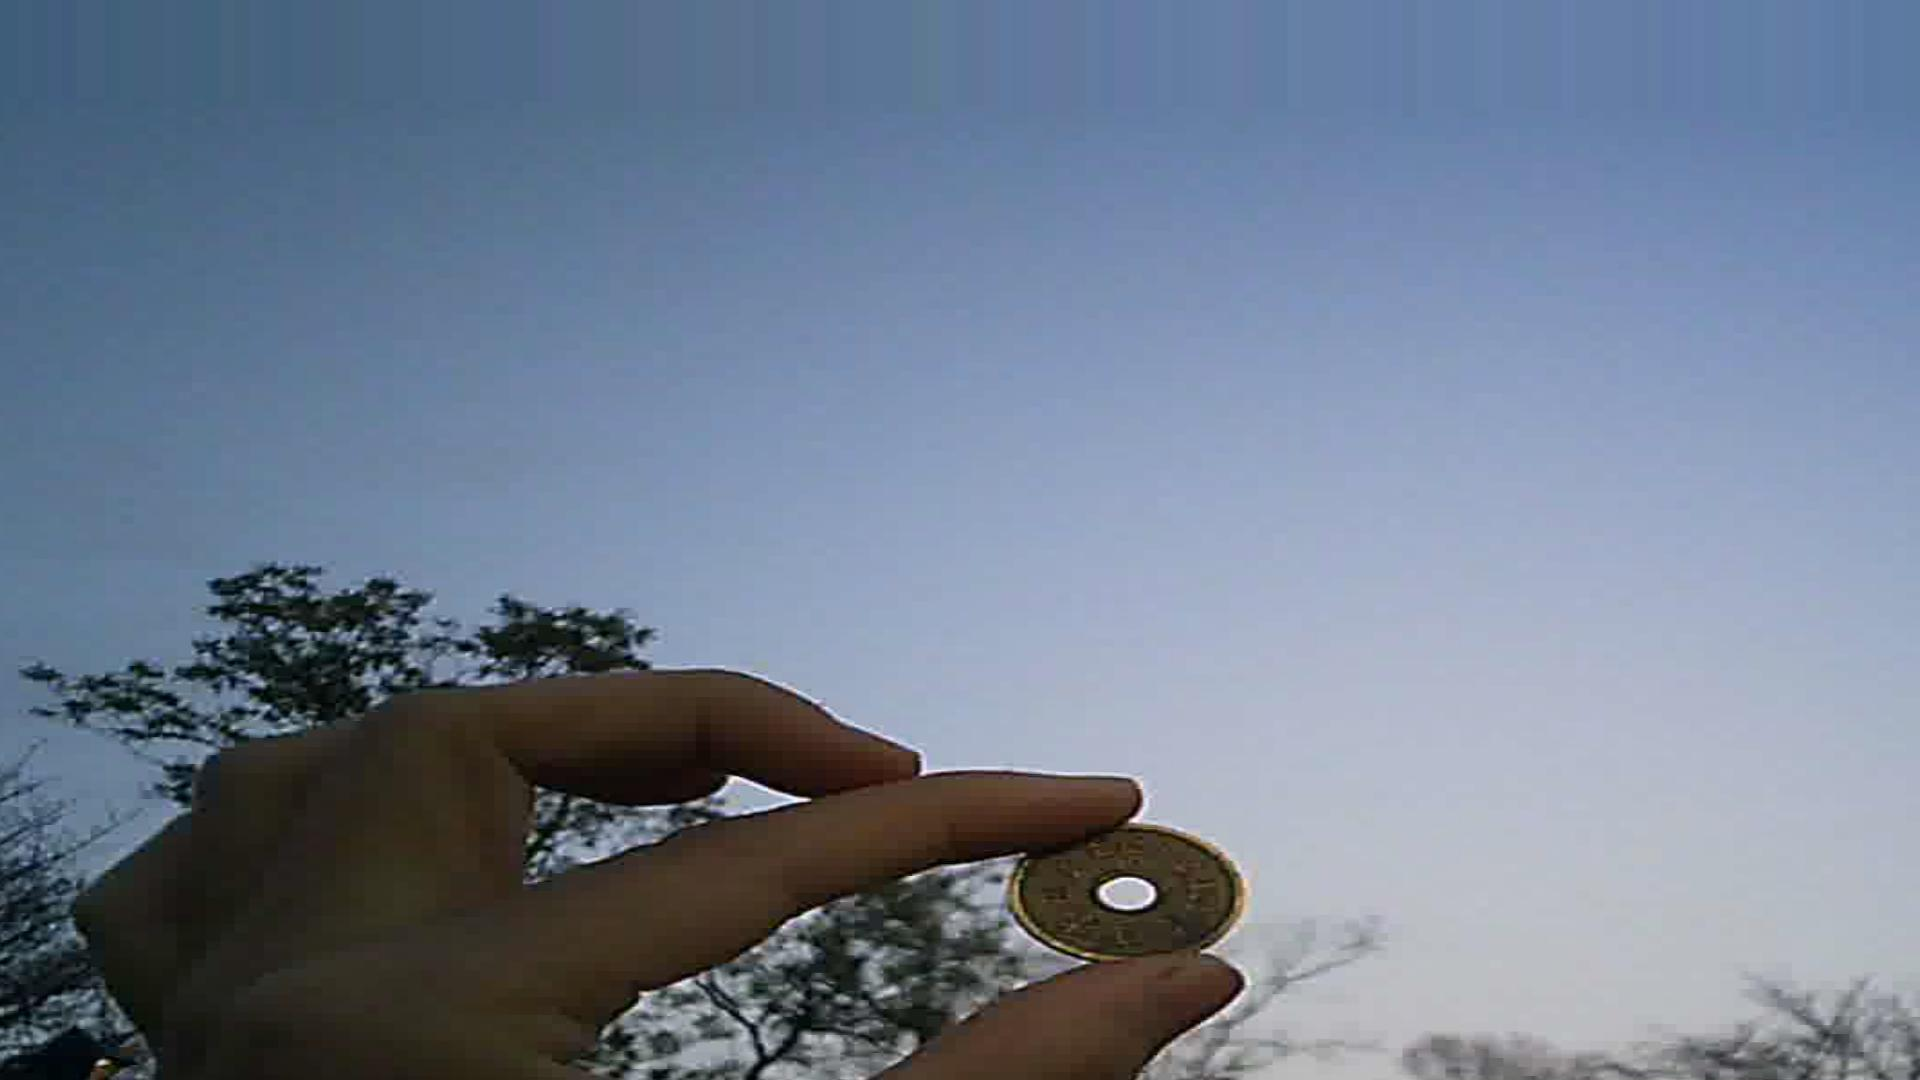5 Yen: (1009, 804, 1249, 953)
